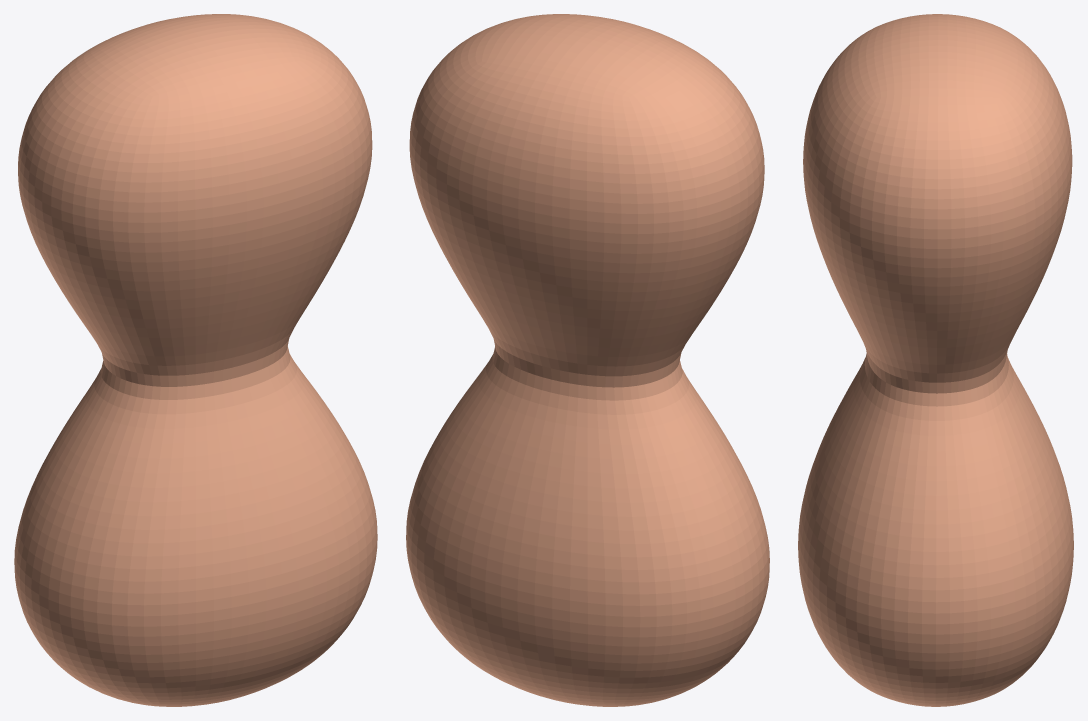
File: brazoIzq.obj
The picture shows the model from 3 angles, left to right: view 1: azimuth 30°, elevation 25°; view 2: azimuth 150°, elevation 25°; view 3: azimuth 270°, elevation 25°; orthographic projection. The views are drawn at different scales.
Parts seen in each view (by area): view 1: brazoIzqElRey_Mesh; view 2: brazoIzqElRey_Mesh; view 3: brazoIzqElRey_Mesh.
Part boxes in pixels (left/top/right/bottom): brazoIzqElRey_Mesh: left=14, top=14, right=377, bottom=706; brazoIzqElRey_Mesh: left=406, top=14, right=769, bottom=706; brazoIzqElRey_Mesh: left=798, top=14, right=1073, bottom=706.
Size of the model in its own units: 0.9541 by 1.82 by 0.7067.
1 material, 1 textured.
